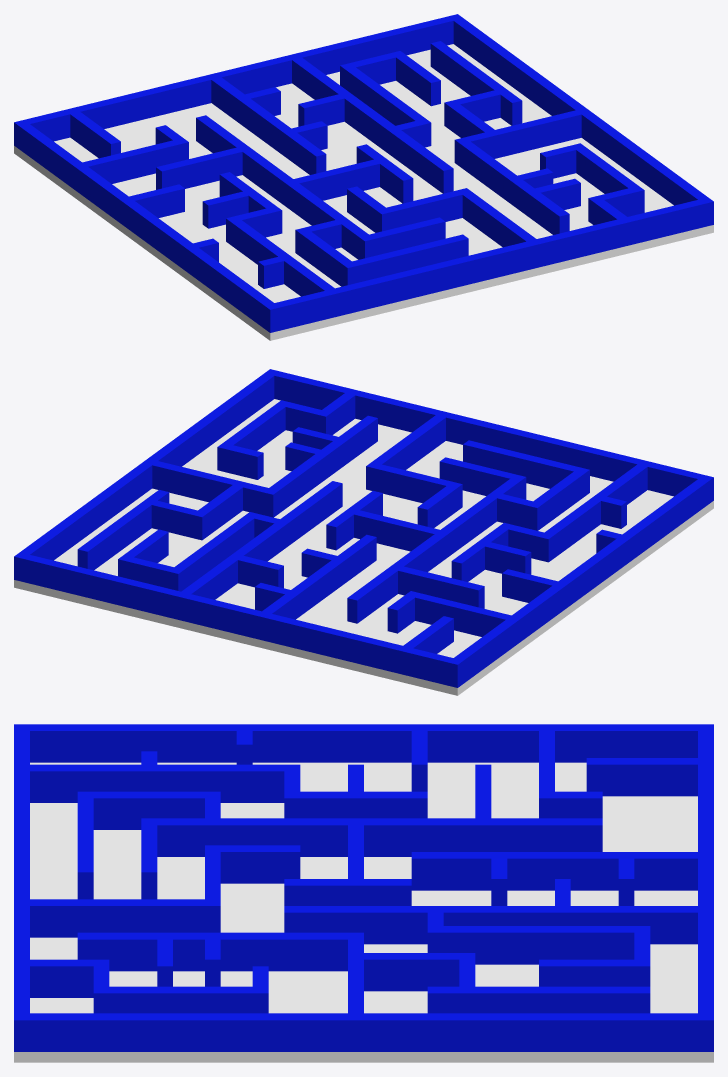
File: Maze.fbx
3 views of the same model, one above another, from view 1: azimuth 30°, elevation 25°; view 2: azimuth 150°, elevation 25°; view 3: azimuth 270°, elevation 25° (orthographic). The views are drawn at different scales.
Visible parts, largest first — view 1: Maze; view 2: Maze; view 3: Maze.
Part boxes in pixels (<box>): Maze: <box>14,14,713,340</box>; Maze: <box>14,369,713,695</box>; Maze: <box>14,724,713,1062</box>.
Bounding box in the file's own units: 20000 × 1338 × 20000.
